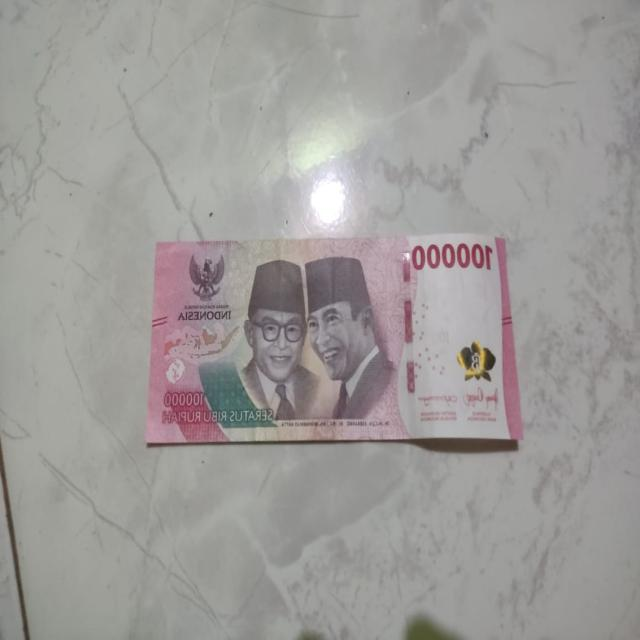seratus ribu rupiah: (139, 228, 527, 458)
